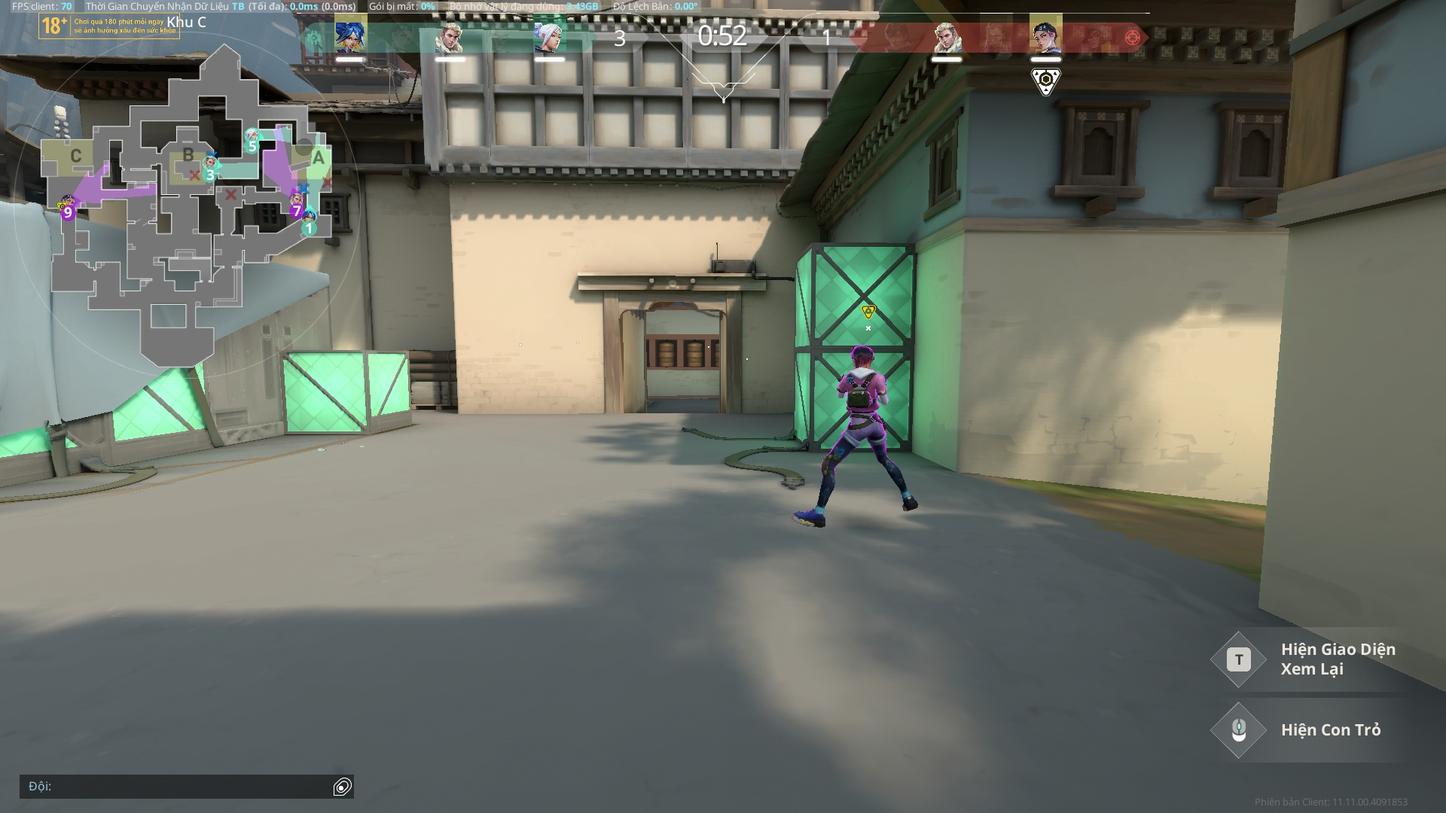body: (843, 367, 884, 411)
head: (852, 346, 875, 368)
